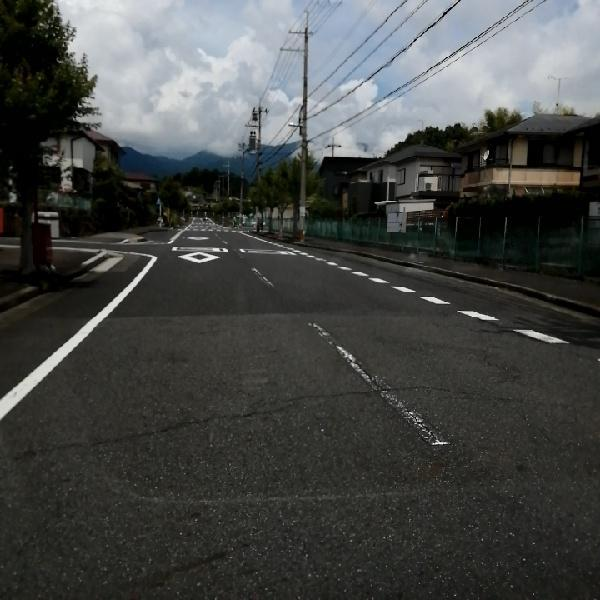D10: (39, 376, 459, 453), (417, 365, 546, 413)
D44: (307, 314, 448, 453)
